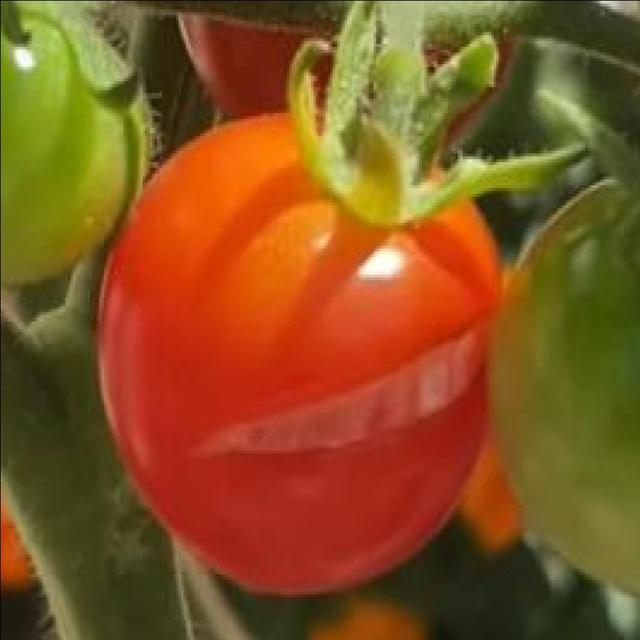Cracking Fruit: (119, 197, 333, 324)
